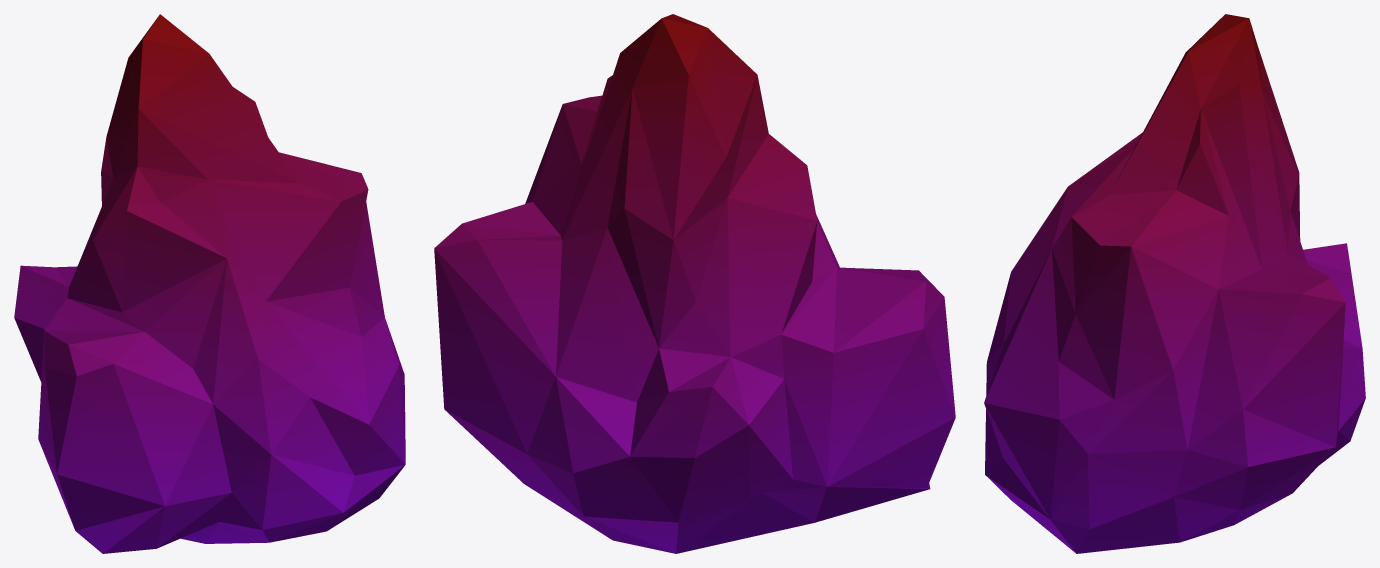
File: synty-plant-bush-01.gltf
3 renders of one model, left to right at view 1: azimuth 30°, elevation 25°; view 2: azimuth 150°, elevation 25°; view 3: azimuth 270°, elevation 25°, orthographic. The views are drawn at different scales.
Visible parts, largest first — view 1: SM_Plant_Bush_01; view 2: SM_Plant_Bush_01; view 3: SM_Plant_Bush_01.
Part boxes in pixels (x1,y1,x2,y2): SM_Plant_Bush_01: (14, 14, 405, 553); SM_Plant_Bush_01: (434, 14, 955, 553); SM_Plant_Bush_01: (984, 14, 1365, 553).
Size of the model in its own units: 1.61 by 2.04 by 1.41.
